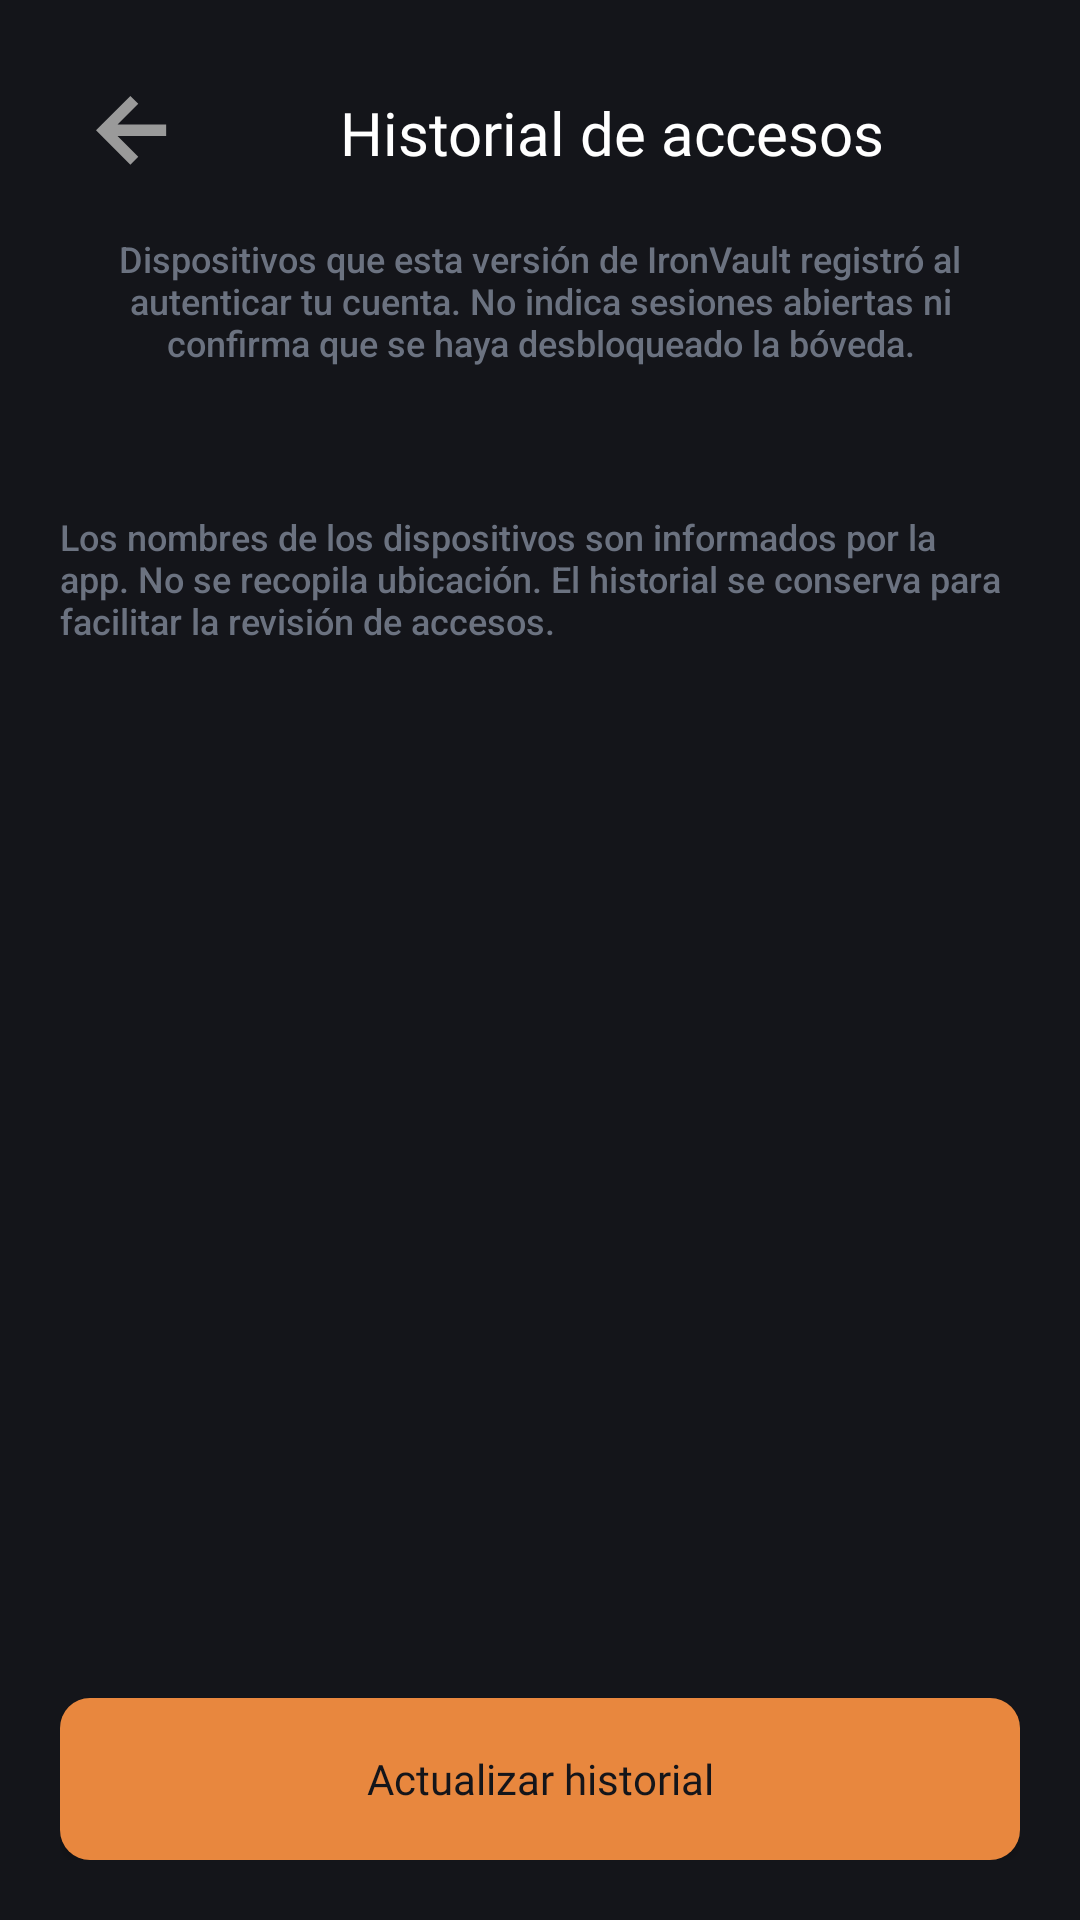

Icons on this 1080×1920 Android screen, each with its box as bbox=[x1, y1, x2, y2]:
Volver: bbox=[96, 96, 166, 165]
